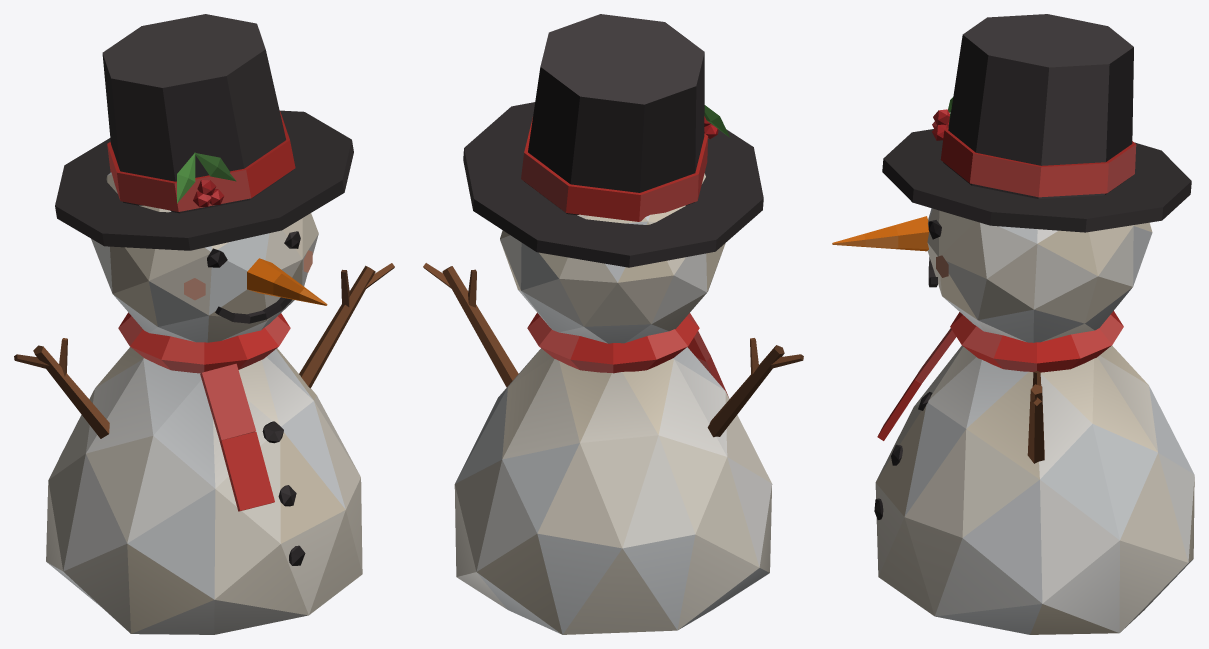
Rendered from snowman.glb.
3 renders of one model, left to right at view 1: azimuth 30°, elevation 25°; view 2: azimuth 150°, elevation 25°; view 3: azimuth 270°, elevation 25°, orthographic.
Parts seen in each view (by area): view 1: BodySnow, Crown, Brim, HeadSnow, Scarf, Band, ScarfTail.001, ScarfTail, Stick.001, Carrot, Stick, Smile (+2 smaller); view 2: BodySnow, Crown, Brim, HeadSnow, Band, Scarf, Stick.001, Stick; view 3: BodySnow, Crown, HeadSnow, Brim, Band, Scarf, Carrot, Stick.001, ScarfTail.001, ScarfTail.
Part boxes in pixels (box(x1,y1,x2,y2)): BodySnow: box(46, 347, 362, 634); Crown: box(102, 14, 292, 213); Brim: box(55, 110, 353, 250); HeadSnow: box(91, 172, 318, 342); Scarf: box(118, 312, 290, 373); Band: box(107, 111, 295, 211); ScarfTail.001: box(219, 432, 274, 511); ScarfTail: box(200, 363, 255, 440); Stick.001: box(299, 265, 375, 388); Carrot: box(247, 258, 327, 305); Stick: box(33, 345, 109, 438); Smile: box(215, 297, 291, 323); BodySnow: box(454, 347, 772, 634); Crown: box(524, 14, 704, 215); Brim: box(463, 102, 763, 267); HeadSnow: box(500, 173, 725, 343); Band: box(521, 117, 708, 221); Scarf: box(527, 312, 699, 373); Stick.001: box(442, 266, 518, 387); Stick: box(707, 345, 784, 437); BodySnow: box(875, 345, 1194, 634); Crown: box(943, 14, 1133, 198); HeadSnow: box(927, 208, 1152, 342); Brim: box(882, 129, 1191, 232); Band: box(940, 127, 1136, 197); Scarf: box(950, 311, 1123, 372); Carrot: box(832, 216, 929, 251); Stick.001: box(1027, 384, 1044, 463); ScarfTail.001: box(877, 369, 921, 440); ScarfTail: box(915, 328, 956, 383).
Size of the model in its own units: 1.12 by 1.53 by 0.9166.
